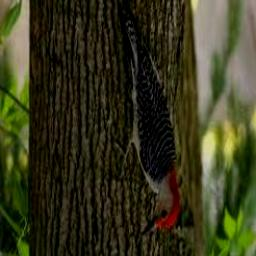Woodpecker: (114, 9, 180, 239)
